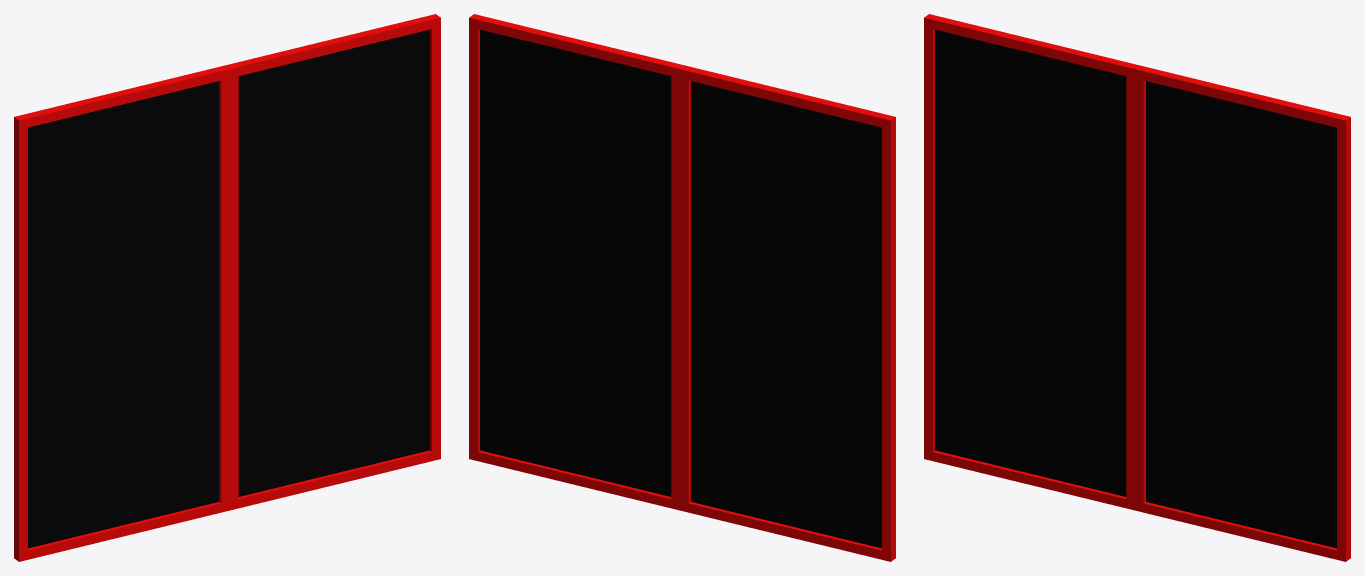
The model's file is Single.gltf.
3 renders of one model, left to right at view 1: azimuth 30°, elevation 25°; view 2: azimuth 150°, elevation 25°; view 3: azimuth 330°, elevation 25°, orthographic.
Visible parts, largest first — view 1: Part 8, Part 7, Part 1, Part 3, Part 2, Part 4, Part 5, Part 6; view 2: Part 8, Part 7, Part 1, Part 3, Part 2, Part 4, Part 5, Part 6; view 3: Part 7, Part 8, Part 2, Part 3, Part 1, Part 4, Part 6, Part 5.
Part boxes in pixels (x1,y1,x2,y2): Part 8: (238, 29, 429, 496); Part 7: (28, 81, 218, 548); Part 1: (14, 115, 27, 561); Part 3: (23, 16, 431, 127); Part 2: (427, 14, 440, 460); Part 4: (28, 450, 431, 559); Part 5: (219, 78, 229, 503); Part 6: (230, 76, 238, 501); Part 8: (480, 29, 671, 496); Part 7: (691, 81, 881, 548); Part 1: (882, 115, 895, 561); Part 3: (478, 16, 886, 127); Part 2: (469, 14, 482, 460); Part 4: (478, 450, 881, 559); Part 5: (680, 78, 690, 503); Part 6: (671, 76, 679, 501); Part 7: (935, 29, 1126, 496); Part 8: (1146, 81, 1336, 548); Part 2: (1337, 115, 1350, 561); Part 3: (933, 16, 1341, 127); Part 1: (924, 14, 937, 460); Part 4: (933, 450, 1336, 559); Part 6: (1135, 78, 1145, 503); Part 5: (1126, 76, 1134, 501).
Size of the model in its own units: 1.22 by 1.22 by 0.0254.
